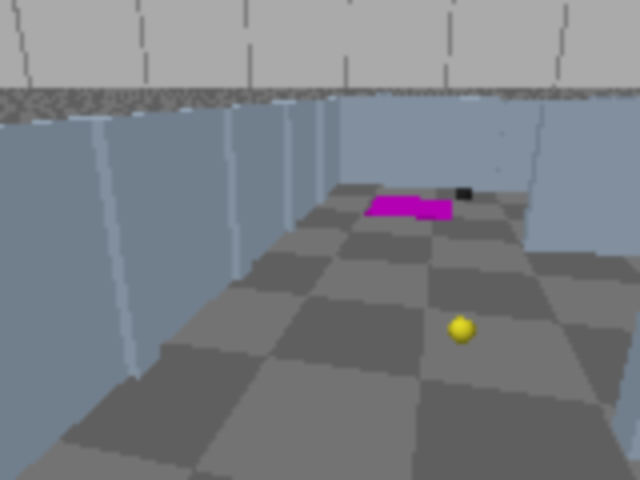goal_zone: (366, 196, 453, 220)
puck: (447, 312, 477, 350)
